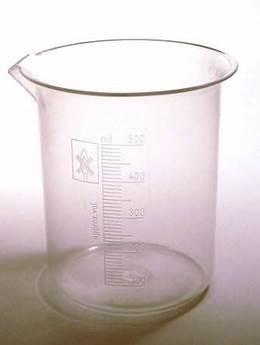Beaker: (6, 39, 239, 318)
